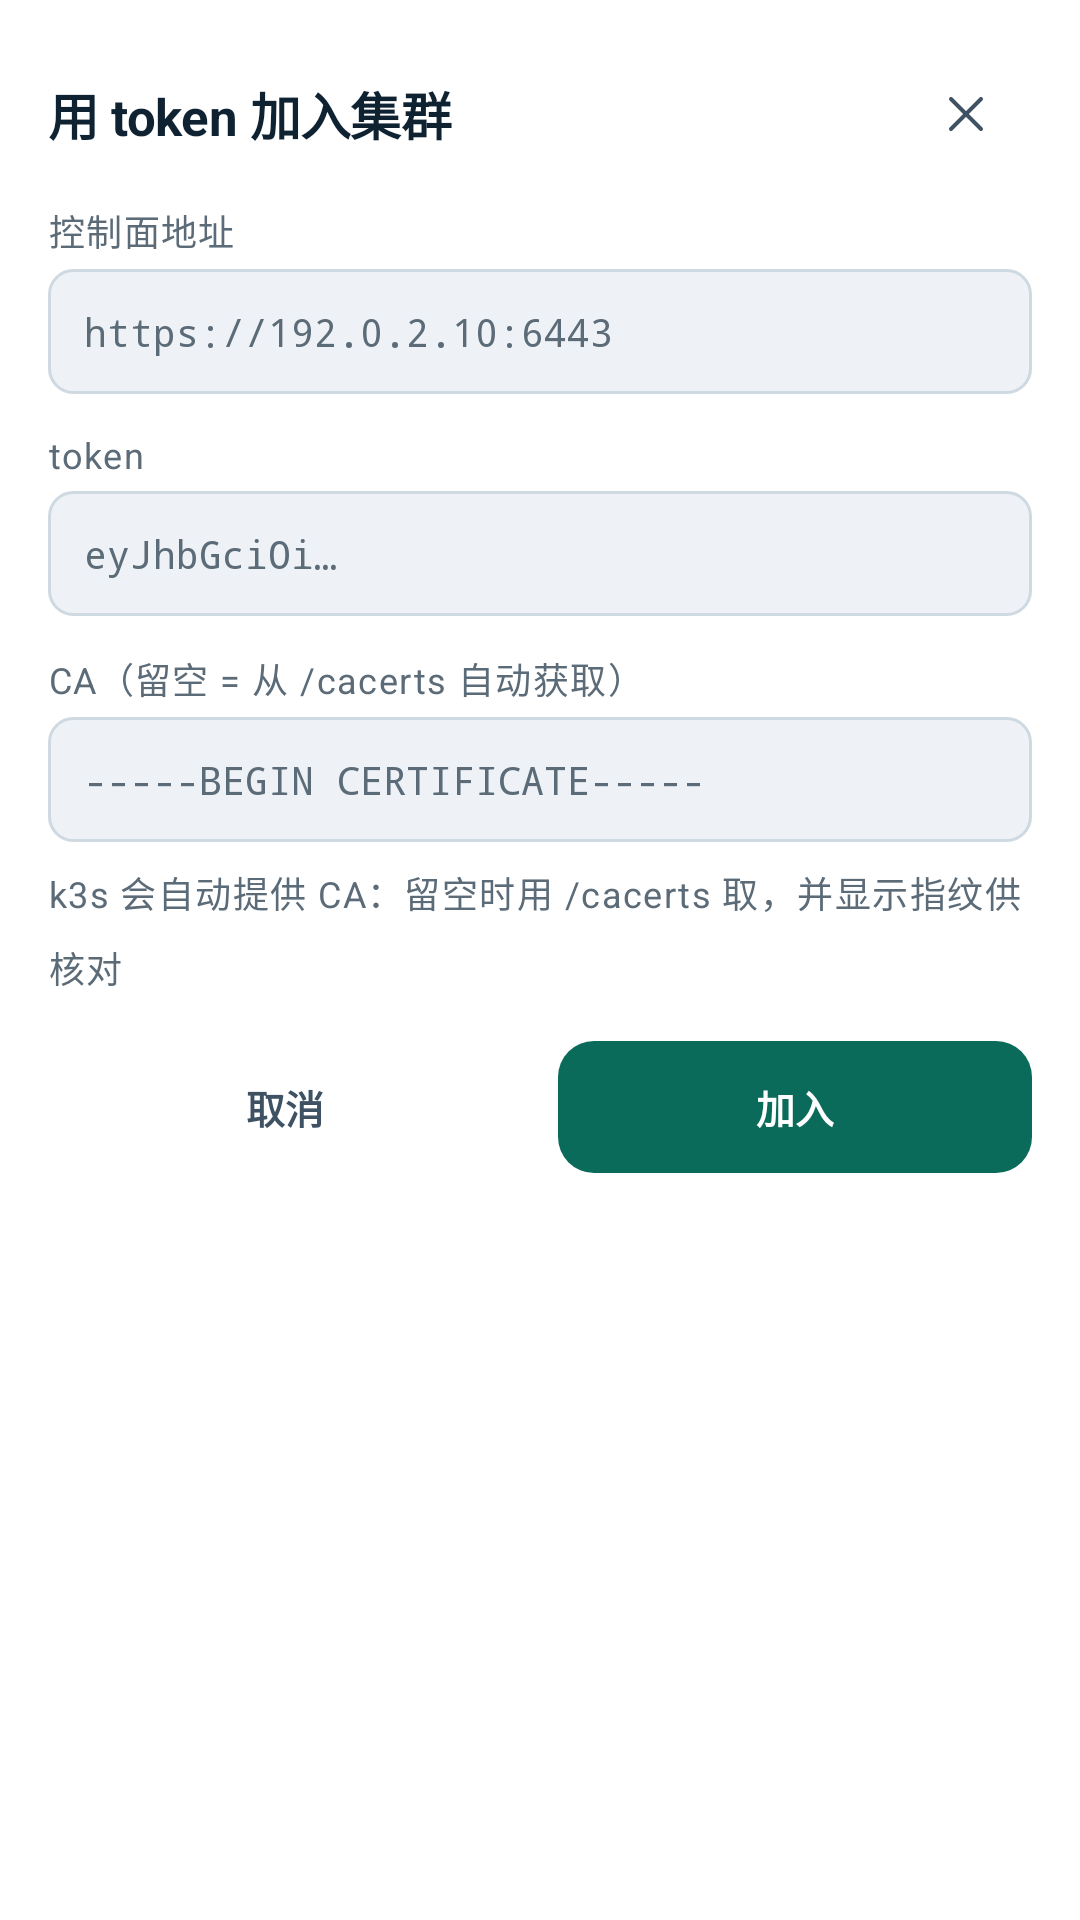

Screen size 1080*1920. Icon name, then its box in pixels as Rect(x1, y1, x2, y2):
关闭: Rect(949, 97, 983, 131)
